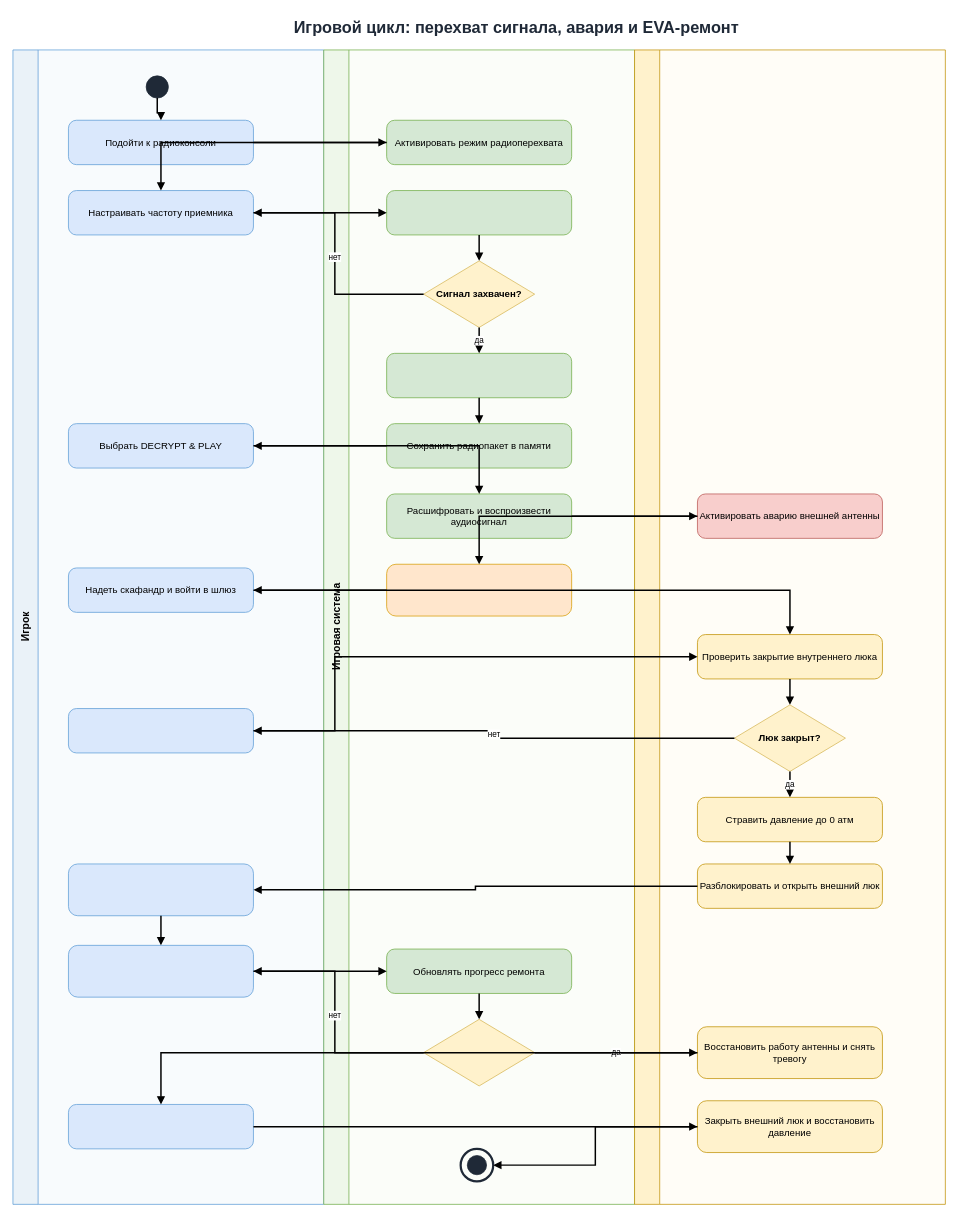
Some shapes in this 958 by 1217 pixel diagram are drawn without their labels. The box of each missing label's shape, as (x1, y1, x2, y2) in pixels:
Анализировать отклонение частоты и форму сигнала: (386, 190, 572, 235)
Вернуться в шлюз: (68, 1104, 253, 1149)
Выйти в открытый космос и двигаться зацепами: (68, 863, 253, 916)
Закрыть внутренний люк: (68, 708, 253, 753)
Зафиксироваться у антенны и удерживать E: (68, 945, 253, 997)
Отключить основной свет, включить тревогу и код ошибки: (386, 564, 572, 616)
Ремонт завершен?: (423, 1019, 535, 1086)
Системы челнока: (634, 49, 945, 1204)
Удерживать резонанс 3 секунды: (386, 353, 572, 398)
